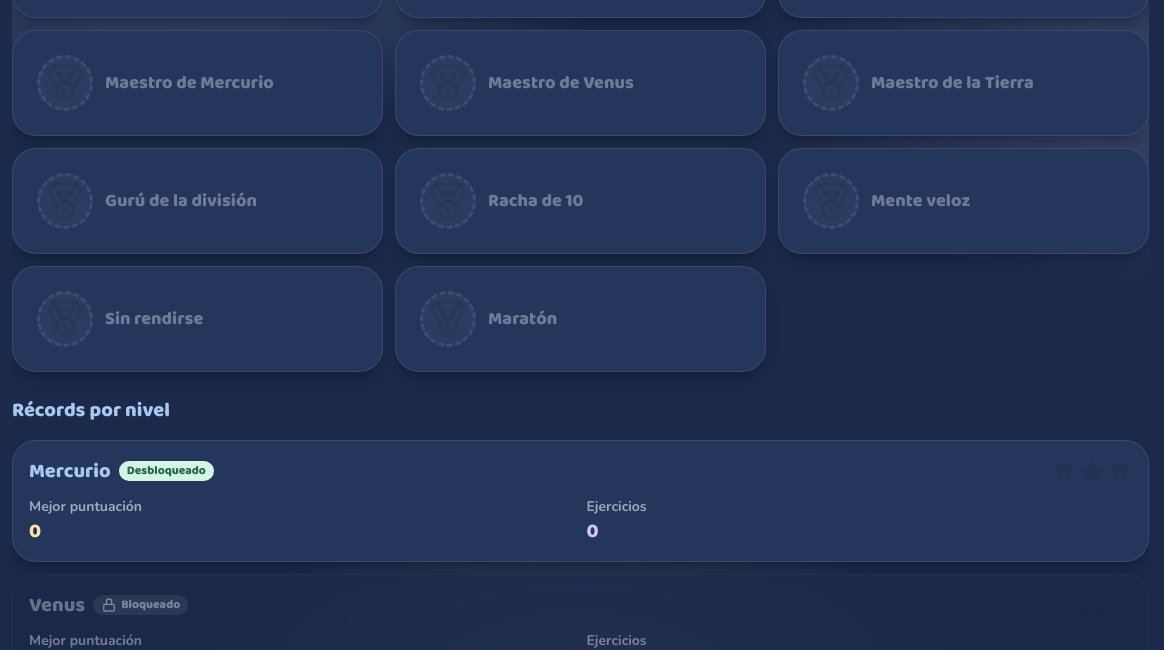
Test: ProfilePage › muestra la pista al hacer click en una medalla bloqueada
The width and height of the screenshot is (1164, 650).
(page scrolled)
What coordinates should you click on to do the following:
click the button "Maratón"
I would click on:
 (448, 319)
Its box is x1=412 y1=283 x2=749 y2=355.
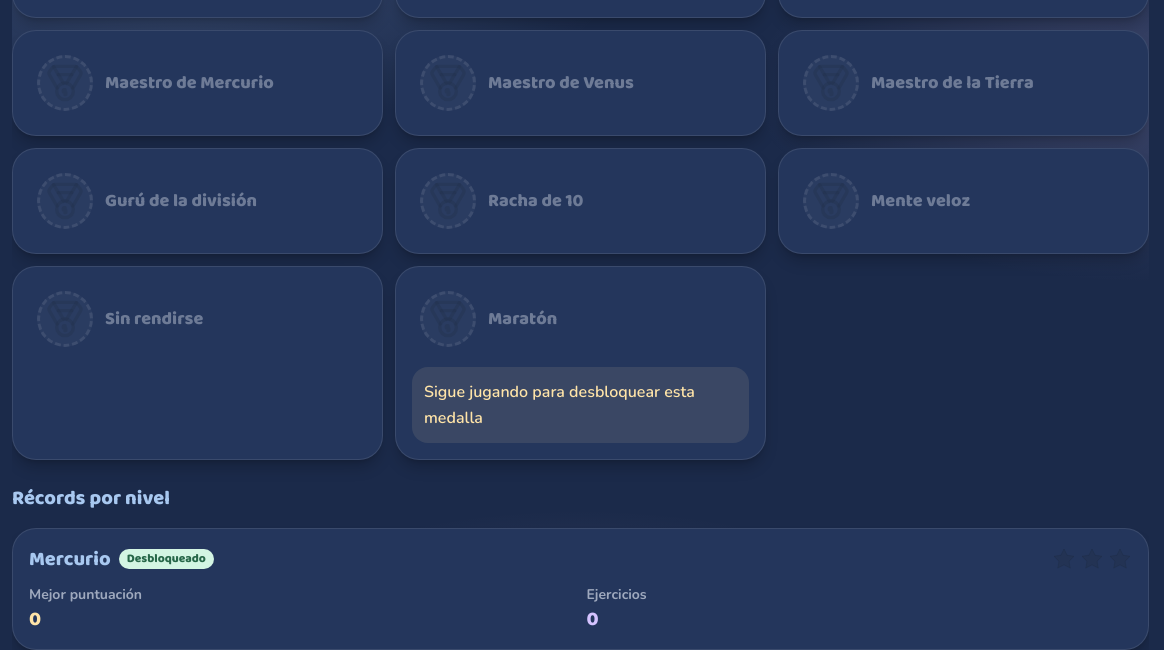
Now the text "Sigue jugando para desbloquear esta medalla" is shown, box x1=412 y1=367 x2=749 y2=443
